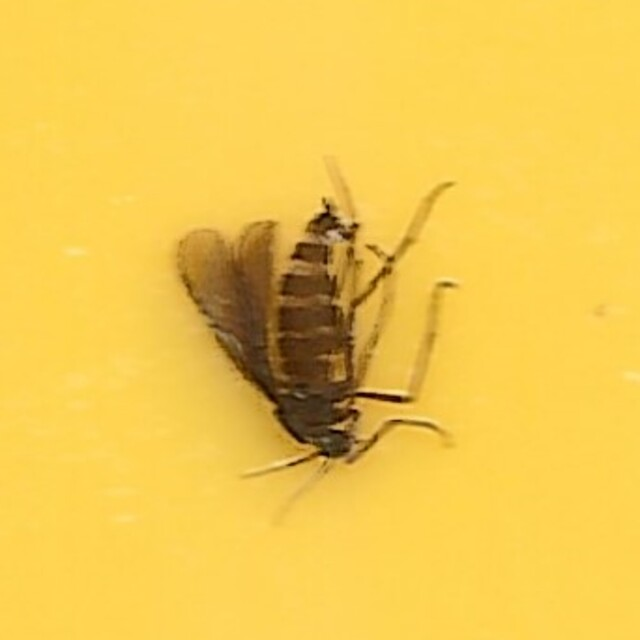Nematocera: (187, 171, 453, 469)
